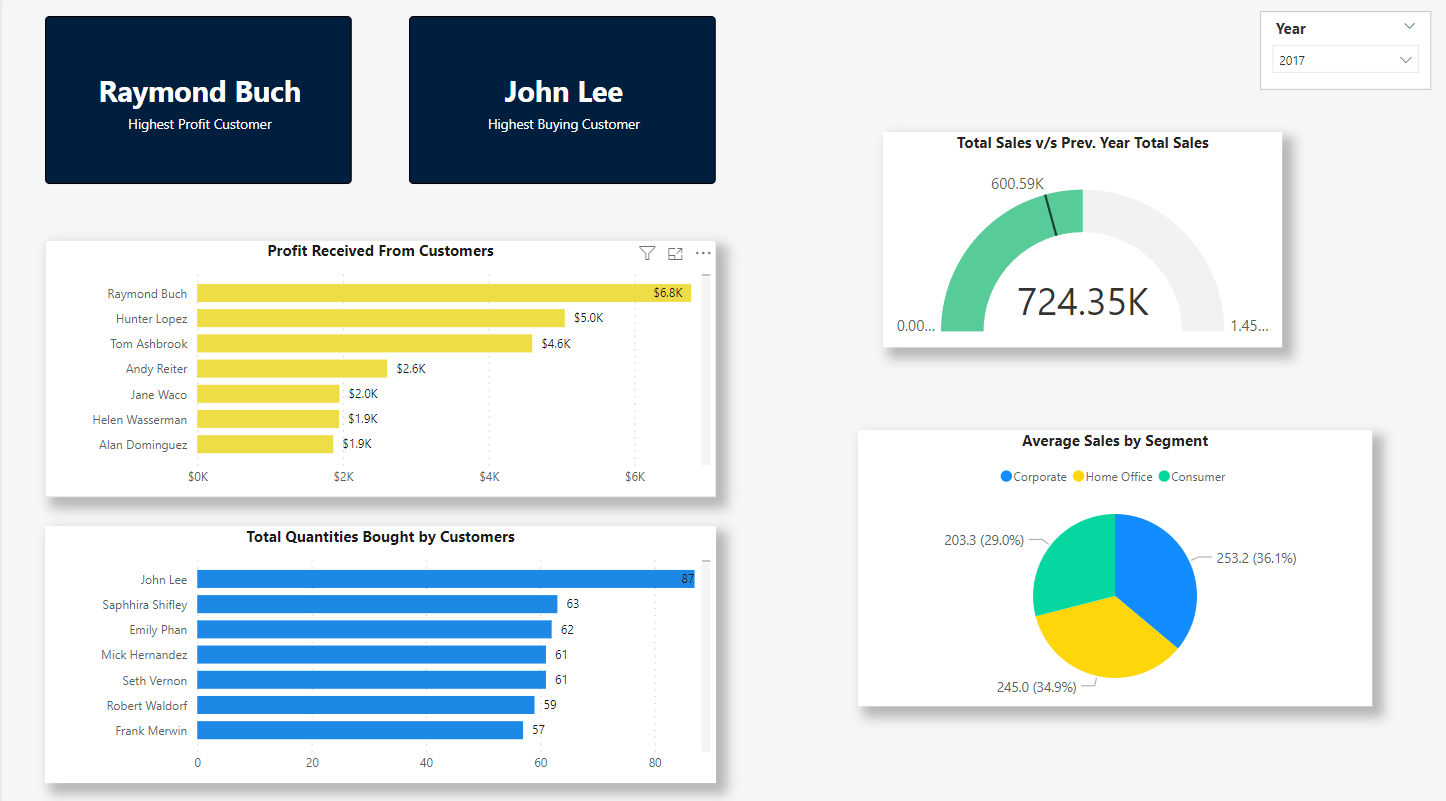

The page's visual inventory and layout, read from the dashboard file:
{"tool":"powerbi","page":{"name":"Customer Dashboard","canvas":[1280,720],"ordinal":1},"visuals":[{"type":"card","fields":{"Values":["superstore superstore_sales.Highest Profit Customer"]},"box":[37.9,17.5,272.3,148.8],"z":0},{"type":"card","fields":{"Values":["superstore superstore_sales.Highest Buying Customer"]},"box":[360.9,17.9,272.2,148.7],"z":1000},{"type":"slicer","fields":{"Values":["superstore superstore_sales.Order_Date.Variation.Date Hierarchy.Year"]},"box":[1115.5,13.3,151.6,70],"z":2000},{"type":"barChart","title":"Profit Received From Customers","fields":{"Category":["superstore superstore_sales.Customer_Name"],"Y":["superstore superstore_sales.Profit"]},"box":[38.1,216.4,595,227.9],"z":3000},{"type":"barChart","title":"Total Quantities Bought by Customers","fields":{"Category":["superstore superstore_sales.Customer_Name"],"Y":["superstore superstore_sales.Total Quantities Sold"]},"box":[38.1,470,595,227.9],"z":4000},{"type":"gauge","title":"Total Sales v/s Prev. Year Total Sales","fields":{"TargetValue":["superstore superstore_sales.Total Sales Previous Year"],"Y":["superstore superstore_sales.Total Sales (Customer)"]},"box":[780.8,120.8,354.2,190.8],"z":5000},{"type":"pieChart","fields":{"Category":["superstore superstore_sales.Segment"],"Y":["superstore superstore_sales.Average Sales"]},"box":[759.2,385,455.8,245],"z":6000}]}

Visuals, with their boxes in screenshot pixels (x1, y1, x2, y2), scaled from the page's 1280x720 canvas onto the 1446x801 screenshot:
card - superstore superstore_sales.Highest Profit Customer: box(43, 19, 350, 185)
card - superstore superstore_sales.Highest Buying Customer: box(408, 20, 715, 185)
slicer - superstore superstore_sales.Order_Date.Variation.Date Hierarchy.Year: box(1260, 15, 1431, 93)
"Profit Received From Customers" barChart: box(43, 241, 715, 494)
"Total Quantities Bought by Customers" barChart: box(43, 523, 715, 776)
"Total Sales v/s Prev. Year Total Sales" gauge: box(882, 134, 1282, 347)
pieChart - superstore superstore_sales.Segment x superstore superstore_sales.Average Sales: box(858, 428, 1373, 701)
